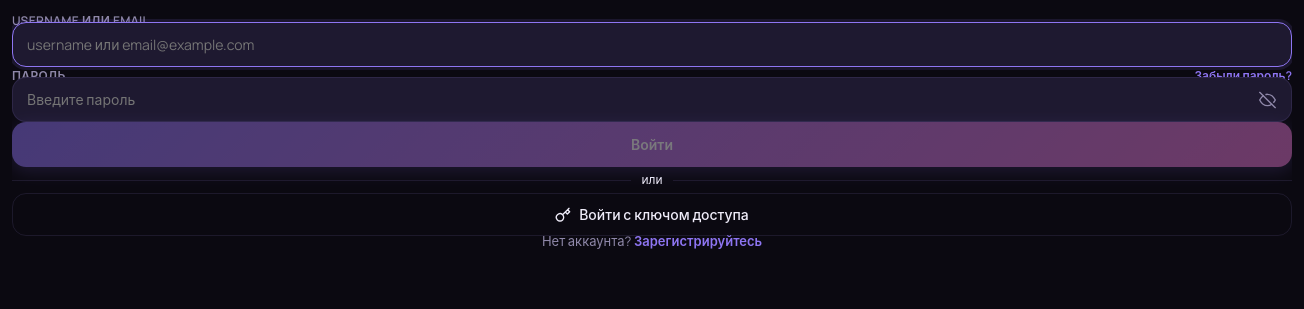
Test: LoginForm — passkey sign-in failures are explained, not swallowed › NotAllowedError (no passkey here / cancelled / timed out) shows a hint
Click the button "Войти с ключом доступа" at (652, 214), box [12,193,1292,236]
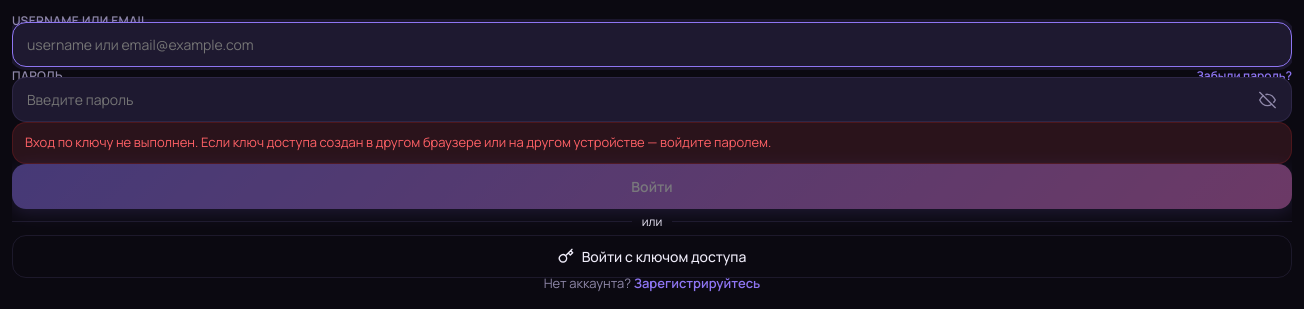
Check: the text "Вход по ключу не выполнен. Если ключ доступа создан в другом браузере или на другом устройстве — войдите паролем." is shown, box [25,133,771,151]
